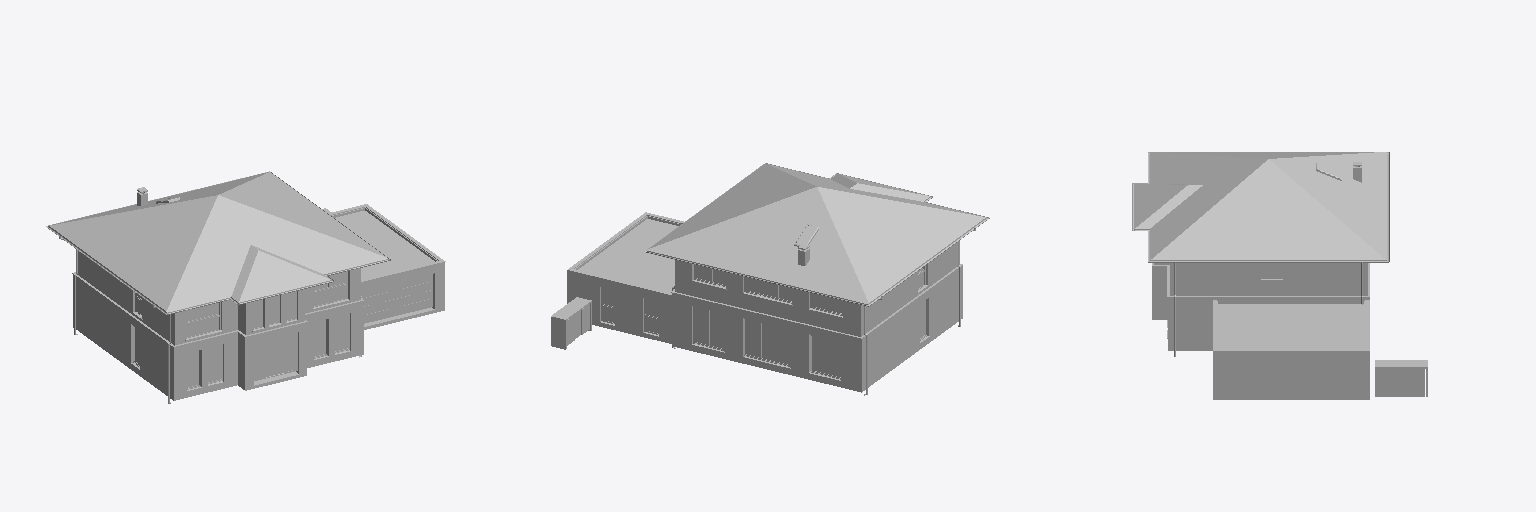
The model's file is House N131121.obj.
3 renders of one model, left to right at view 1: azimuth 30°, elevation 25°; view 2: azimuth 150°, elevation 25°; view 3: azimuth 270°, elevation 25°, orthographic.
Parts seen in each view (by area): view 1: _Daudrich_Hauptdach, _Klinker_Beige1, _Putz_glatt_Weiss, Glas_Normalglas, Farbe__grau, _Farbe__DB_702, 00_Schotter_Grau, _Kunststoff_PE__weiss, _Farbe__grau; view 2: _Daudrich_Hauptdach, _Klinker_Beige1, _Putz_glatt_Weiss, Glas_Normalglas, 00_Schotter_Grau, _Farbe__DB_702, Farbe__grau, _Kunststoff_PE__weiss, Beton__Sichtbeton_Platten, _Farbe__grau, Holz_Schalung__natur__liegend; view 3: _Daudrich_Hauptdach, _Klinker_Beige1, 00_Schotter_Grau, _Putz_glatt_Weiss, Beton__Sichtbeton_Platten, Farbe__grau, _Kunststoff_PE__weiss.
Part boxes in pixels (bbox=[...]): _Daudrich_Hauptdach: bbox=[48, 172, 387, 313]; _Klinker_Beige1: bbox=[73, 207, 444, 397]; _Putz_glatt_Weiss: bbox=[78, 251, 360, 345]; Glas_Normalglas: bbox=[135, 198, 347, 387]; Farbe__grau: bbox=[72, 204, 445, 347]; _Farbe__DB_702: bbox=[131, 187, 350, 391]; 00_Schotter_Grau: bbox=[335, 211, 434, 279]; _Kunststoff_PE__weiss: bbox=[46, 171, 390, 403]; _Farbe__grau: bbox=[73, 324, 363, 400]; _Daudrich_Hauptdach: bbox=[647, 163, 986, 304]; _Klinker_Beige1: bbox=[567, 216, 962, 388]; _Putz_glatt_Weiss: bbox=[675, 241, 959, 336]; Glas_Normalglas: bbox=[602, 226, 925, 376]; 00_Schotter_Grau: bbox=[578, 219, 677, 292]; _Farbe__DB_702: bbox=[600, 244, 929, 380]; Farbe__grau: bbox=[567, 212, 962, 338]; _Kunststoff_PE__weiss: bbox=[644, 163, 989, 395]; Beton__Sichtbeton_Platten: bbox=[551, 297, 591, 349]; _Farbe__grau: bbox=[672, 316, 962, 392]; Holz_Schalung__natur__liegend: bbox=[567, 304, 589, 345]; _Daudrich_Hauptdach: bbox=[1134, 152, 1386, 260]; _Klinker_Beige1: bbox=[1152, 267, 1369, 399]; 00_Schotter_Grau: bbox=[1218, 304, 1363, 348]; _Putz_glatt_Weiss: bbox=[1154, 263, 1367, 295]; Beton__Sichtbeton_Platten: bbox=[1375, 360, 1427, 396]; Farbe__grau: bbox=[1152, 263, 1369, 351]; _Kunststoff_PE__weiss: bbox=[1132, 152, 1389, 356].
Bounding box in the file's own units: 20712 × 9622 × 16996.